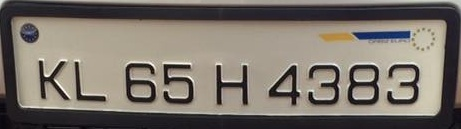character: (35, 56, 73, 102), (72, 57, 107, 102), (214, 60, 248, 106), (123, 58, 155, 105), (161, 61, 195, 104), (267, 64, 300, 108), (307, 61, 340, 104), (346, 62, 379, 105), (387, 61, 419, 105)
